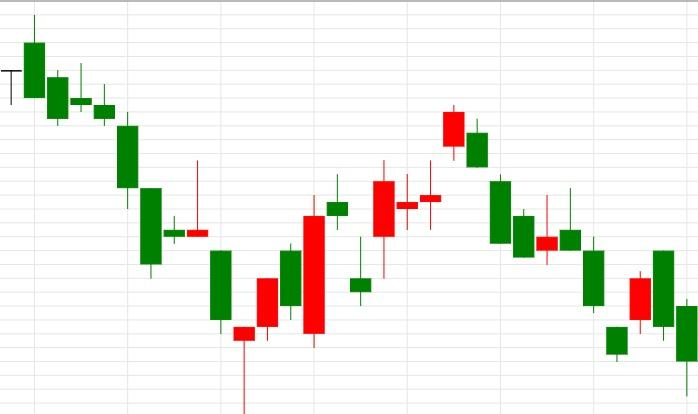hammer_rise: (23, 14, 255, 414)
inverse_hammer_rise: (442, 104, 582, 265)
